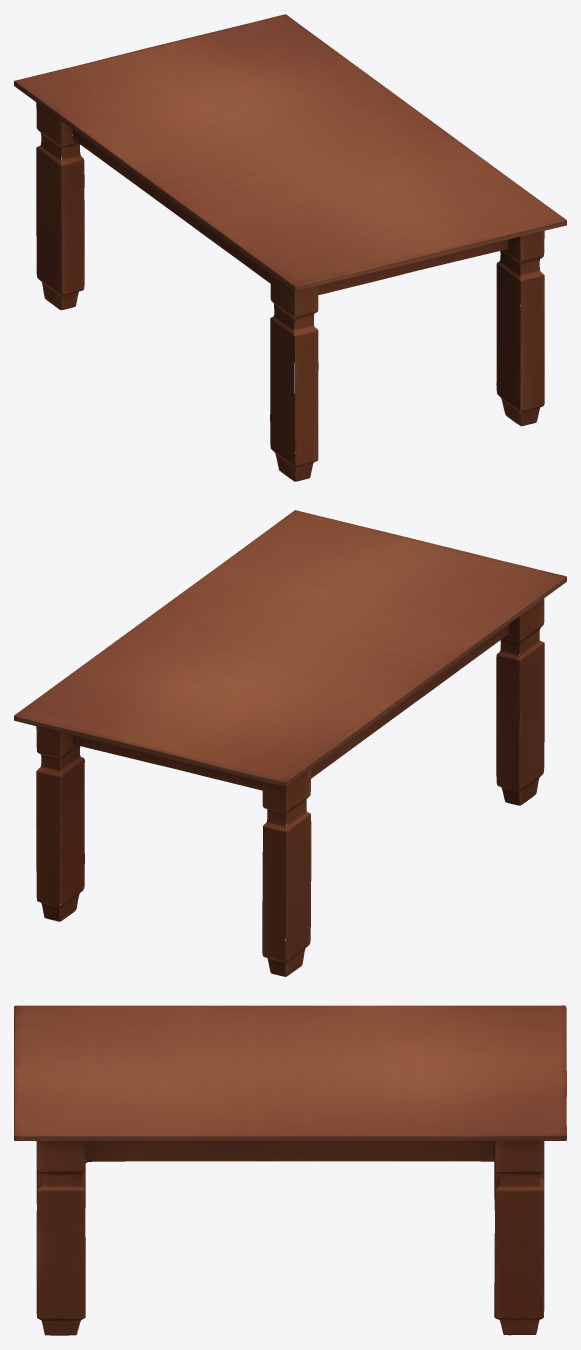
Rendered from wood_table.glb.
3 views of the same model, one above another, from view 1: azimuth 30°, elevation 25°; view 2: azimuth 150°, elevation 25°; view 3: azimuth 270°, elevation 25° (orthographic).
Visible parts, largest first — view 1: world; view 2: world; view 3: world.
Boxes of the visible parts, <box> form: world: <box>14,14,566,481</box>; world: <box>14,510,566,976</box>; world: <box>14,1005,566,1335</box>.
Bounding box in the file's own units: 1 × 0.7412 × 1.79.
Materials: 1 (1 with a texture image).
